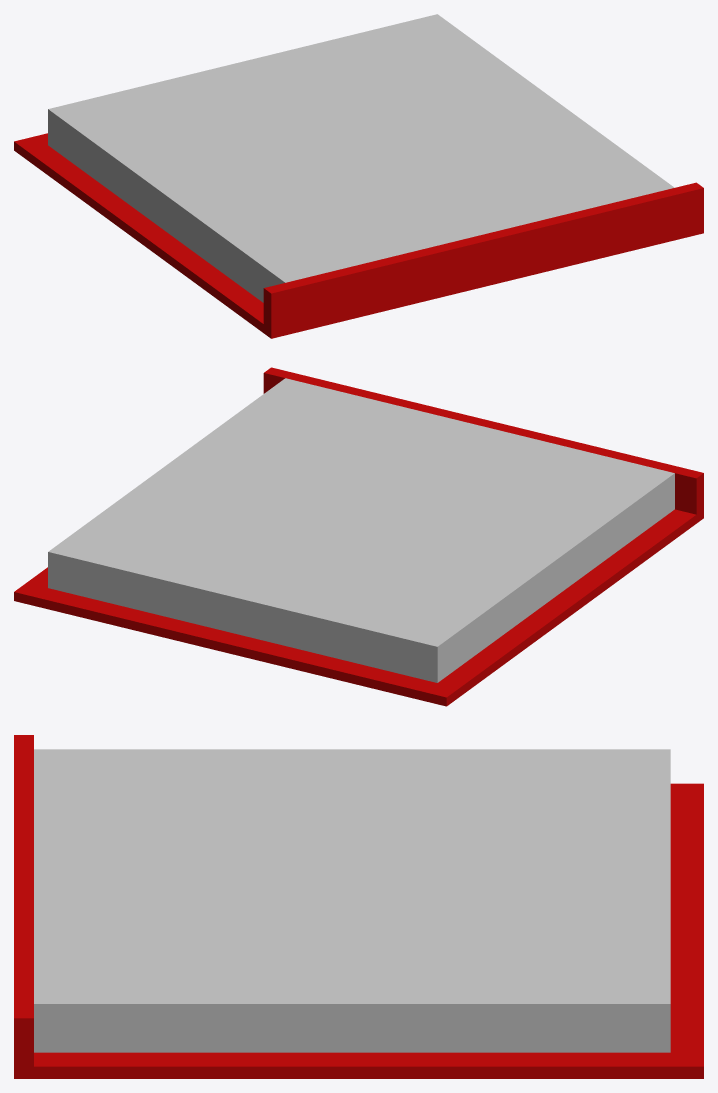
Rendered from Book.obj.
The picture shows the model from 3 angles, top to bottom: view 1: azimuth 30°, elevation 25°; view 2: azimuth 150°, elevation 25°; view 3: azimuth 270°, elevation 25°; orthographic projection. The views are drawn at different scales.
Parts seen in each view (by area): view 1: BookSide; view 2: BookSide; view 3: BookSide.
Part boxes in pixels (x1,y1,x2,y2): BookSide: (14,14,703,338); BookSide: (14,367,703,706); BookSide: (14,735,703,1078).
Bounding box in the file's own units: 1 × 0.1 × 1.03.
